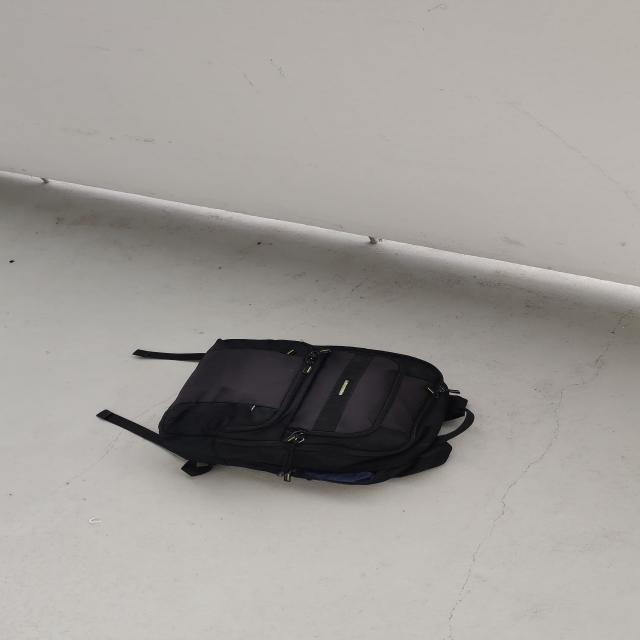backpack: (145, 332, 482, 491)
